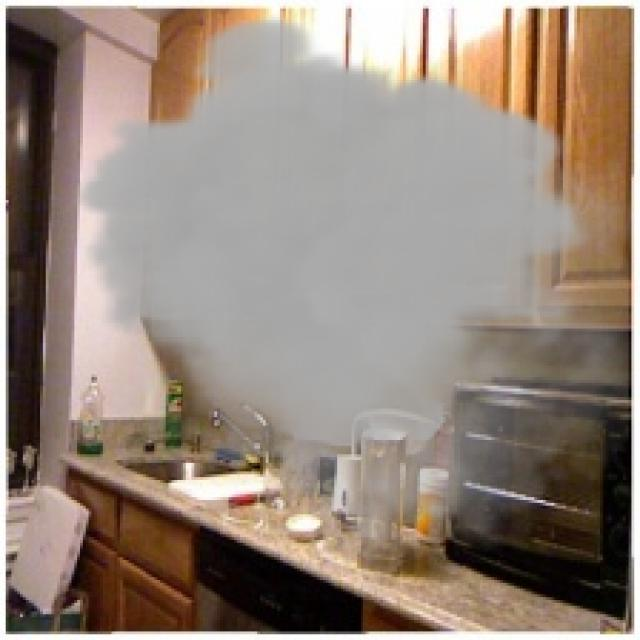smoke: (71, 11, 628, 566)
